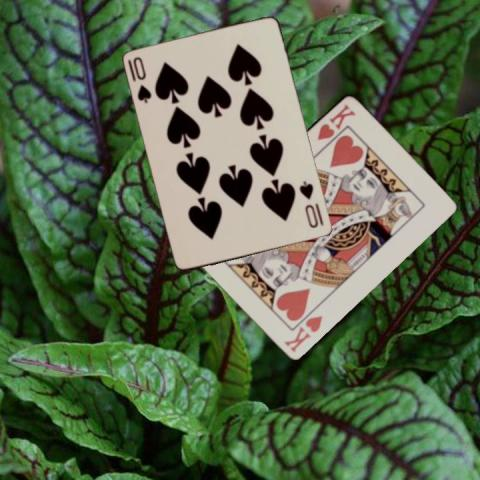10s: (297, 179, 320, 230), (130, 54, 153, 105)
Kh: (281, 312, 324, 353), (314, 101, 357, 141)
